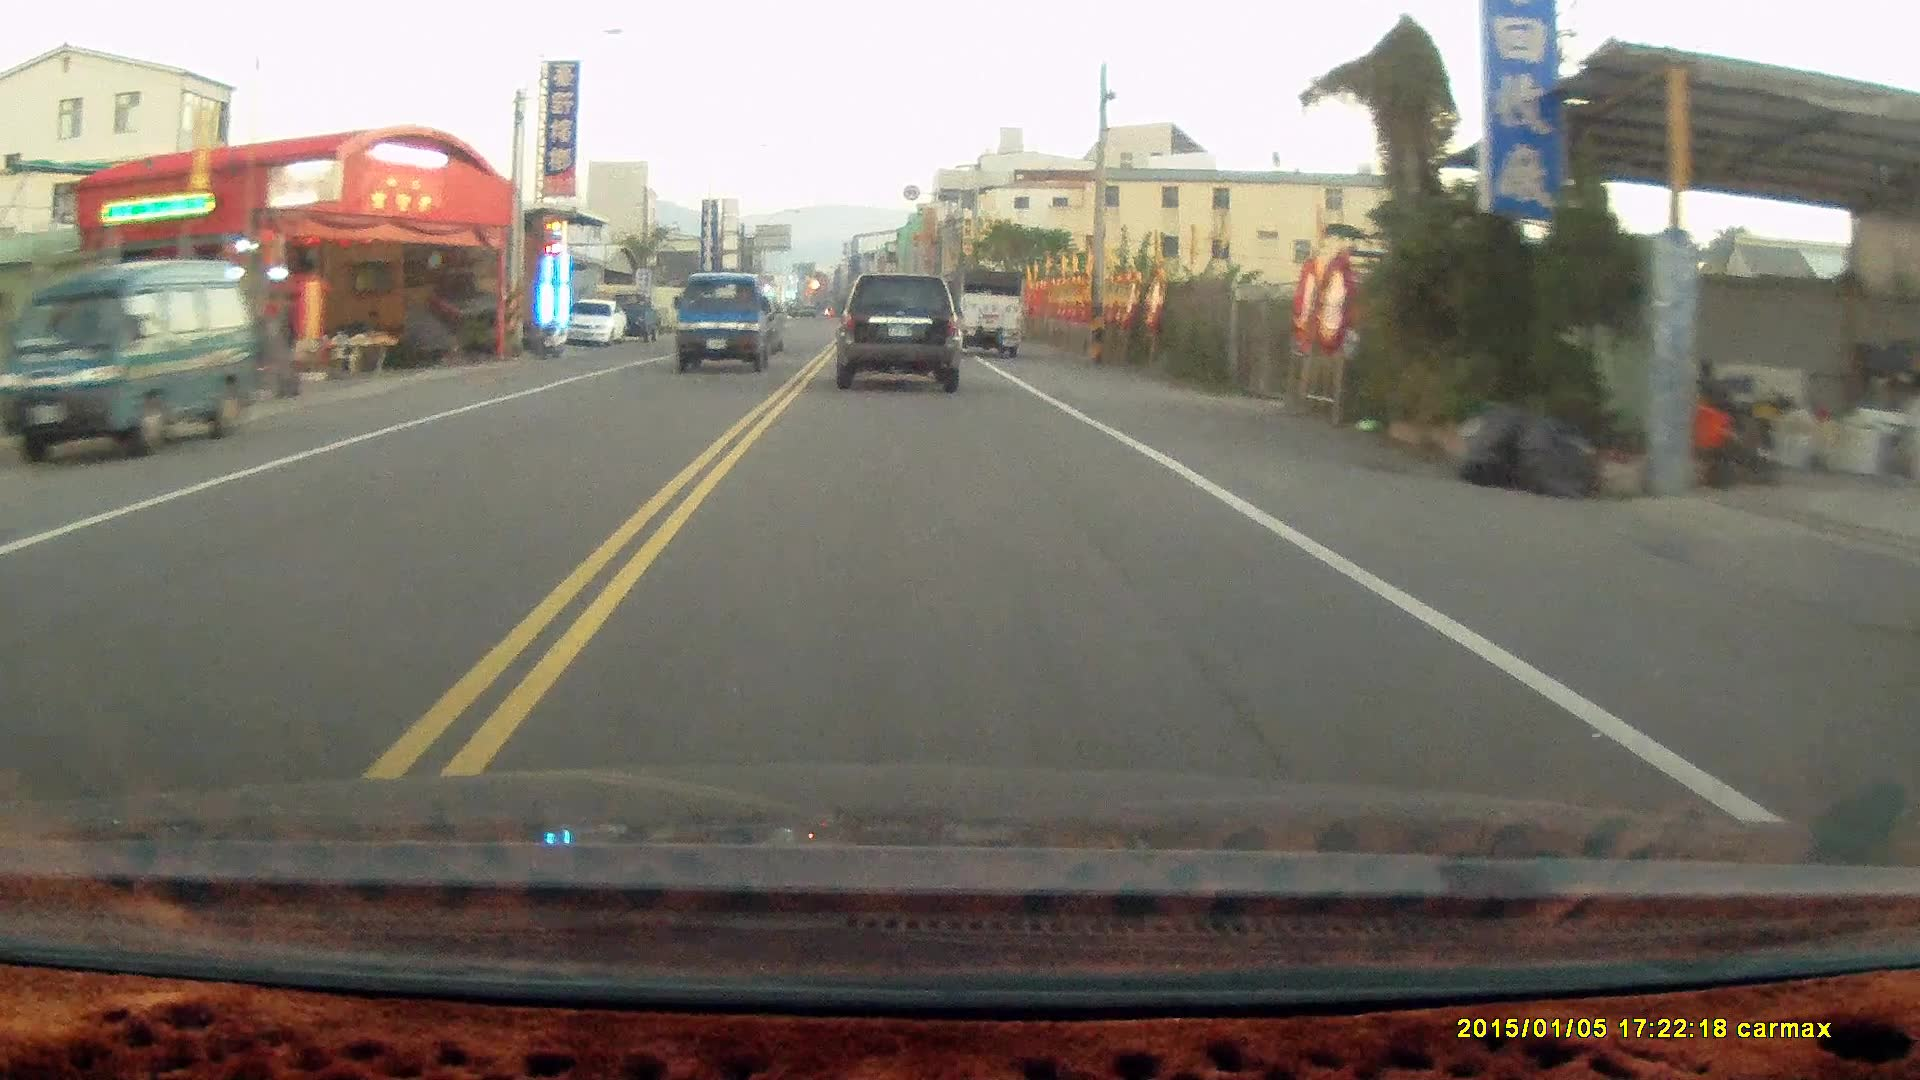vehicle: (15, 256, 264, 463), (836, 272, 963, 392), (674, 266, 786, 369), (939, 264, 1029, 357), (563, 299, 630, 345)
